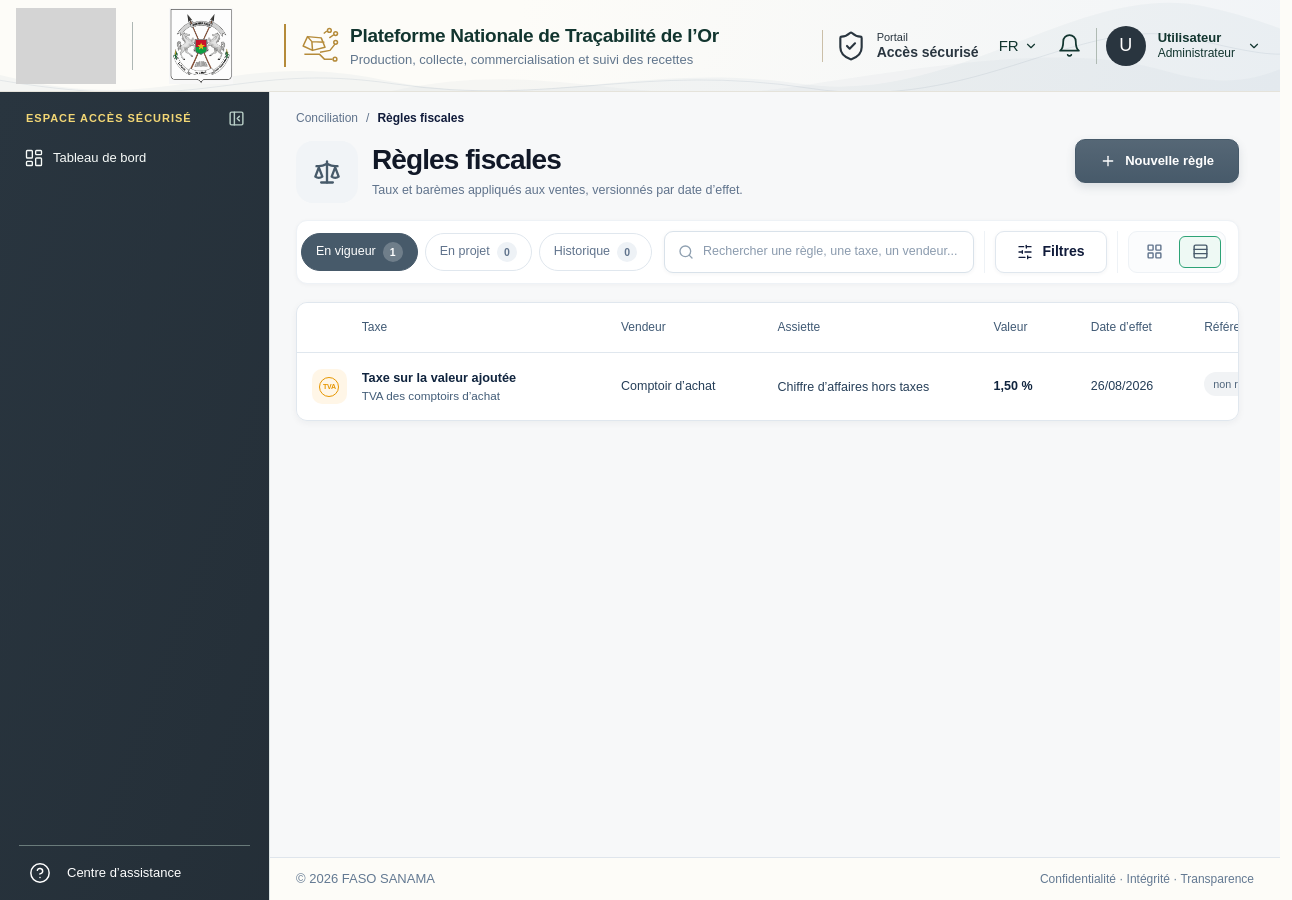
Test case: ReglesFiscalesPage › bascule en tuiles à la demande avec un sélecteur uniquement iconographique
The width and height of the screenshot is (1292, 900).
expect the table is shown: met, box [297, 303, 1239, 420]
expect the radio button named "Vue tableau" is checked: met, box [1179, 236, 1221, 268]
What coordinates should you click on to do the following:
click the radio button named "Vue en tuiles"
I would click on:
 (1154, 252)
Its box is [1146, 243, 1162, 260].
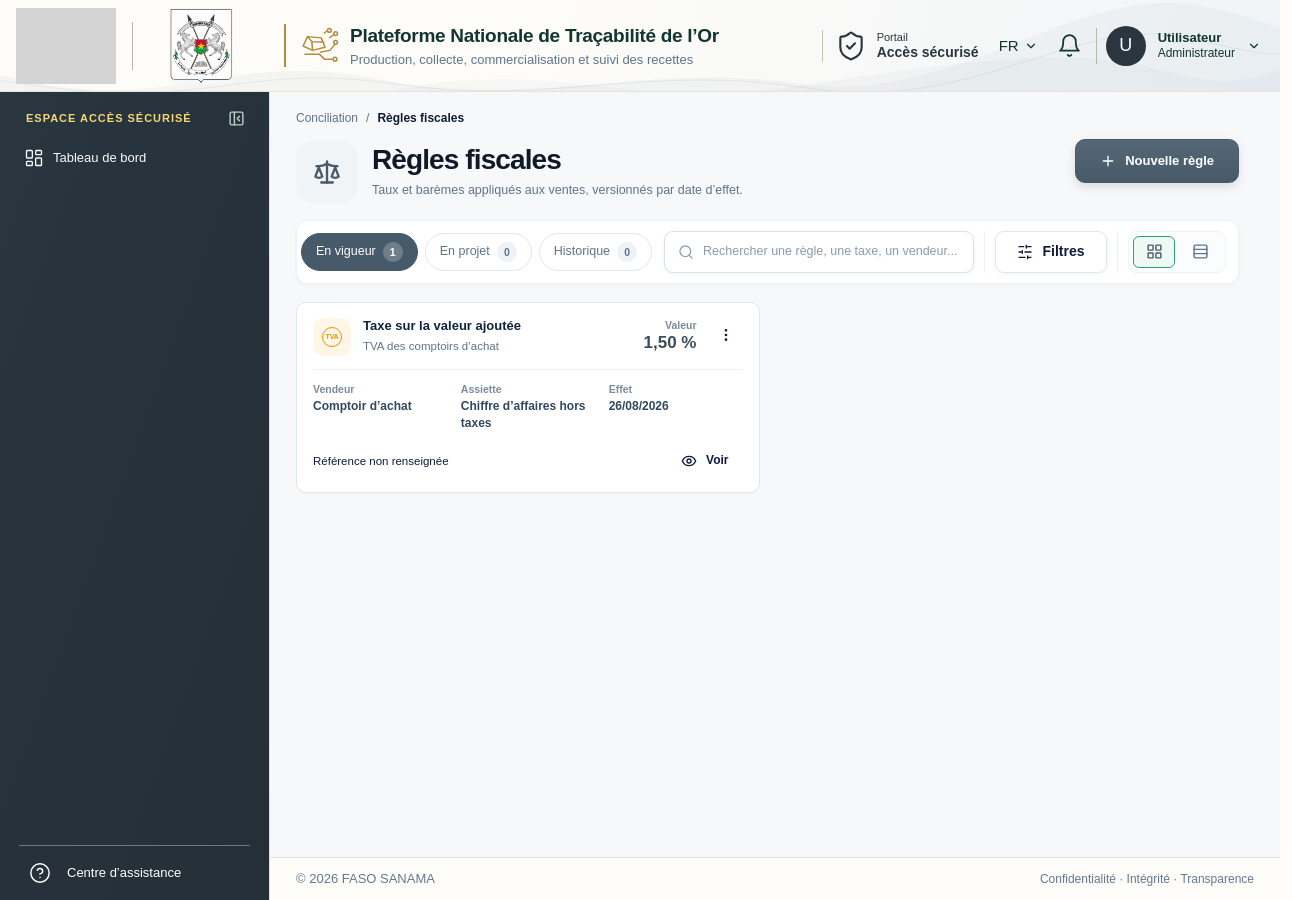
expect the table is gone: met
expect the element with class "rf-tuile" is shown: met, box [296, 302, 760, 493]
